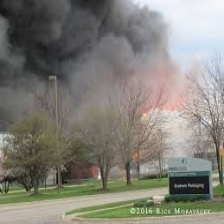smoke: (1, 2, 180, 108)
